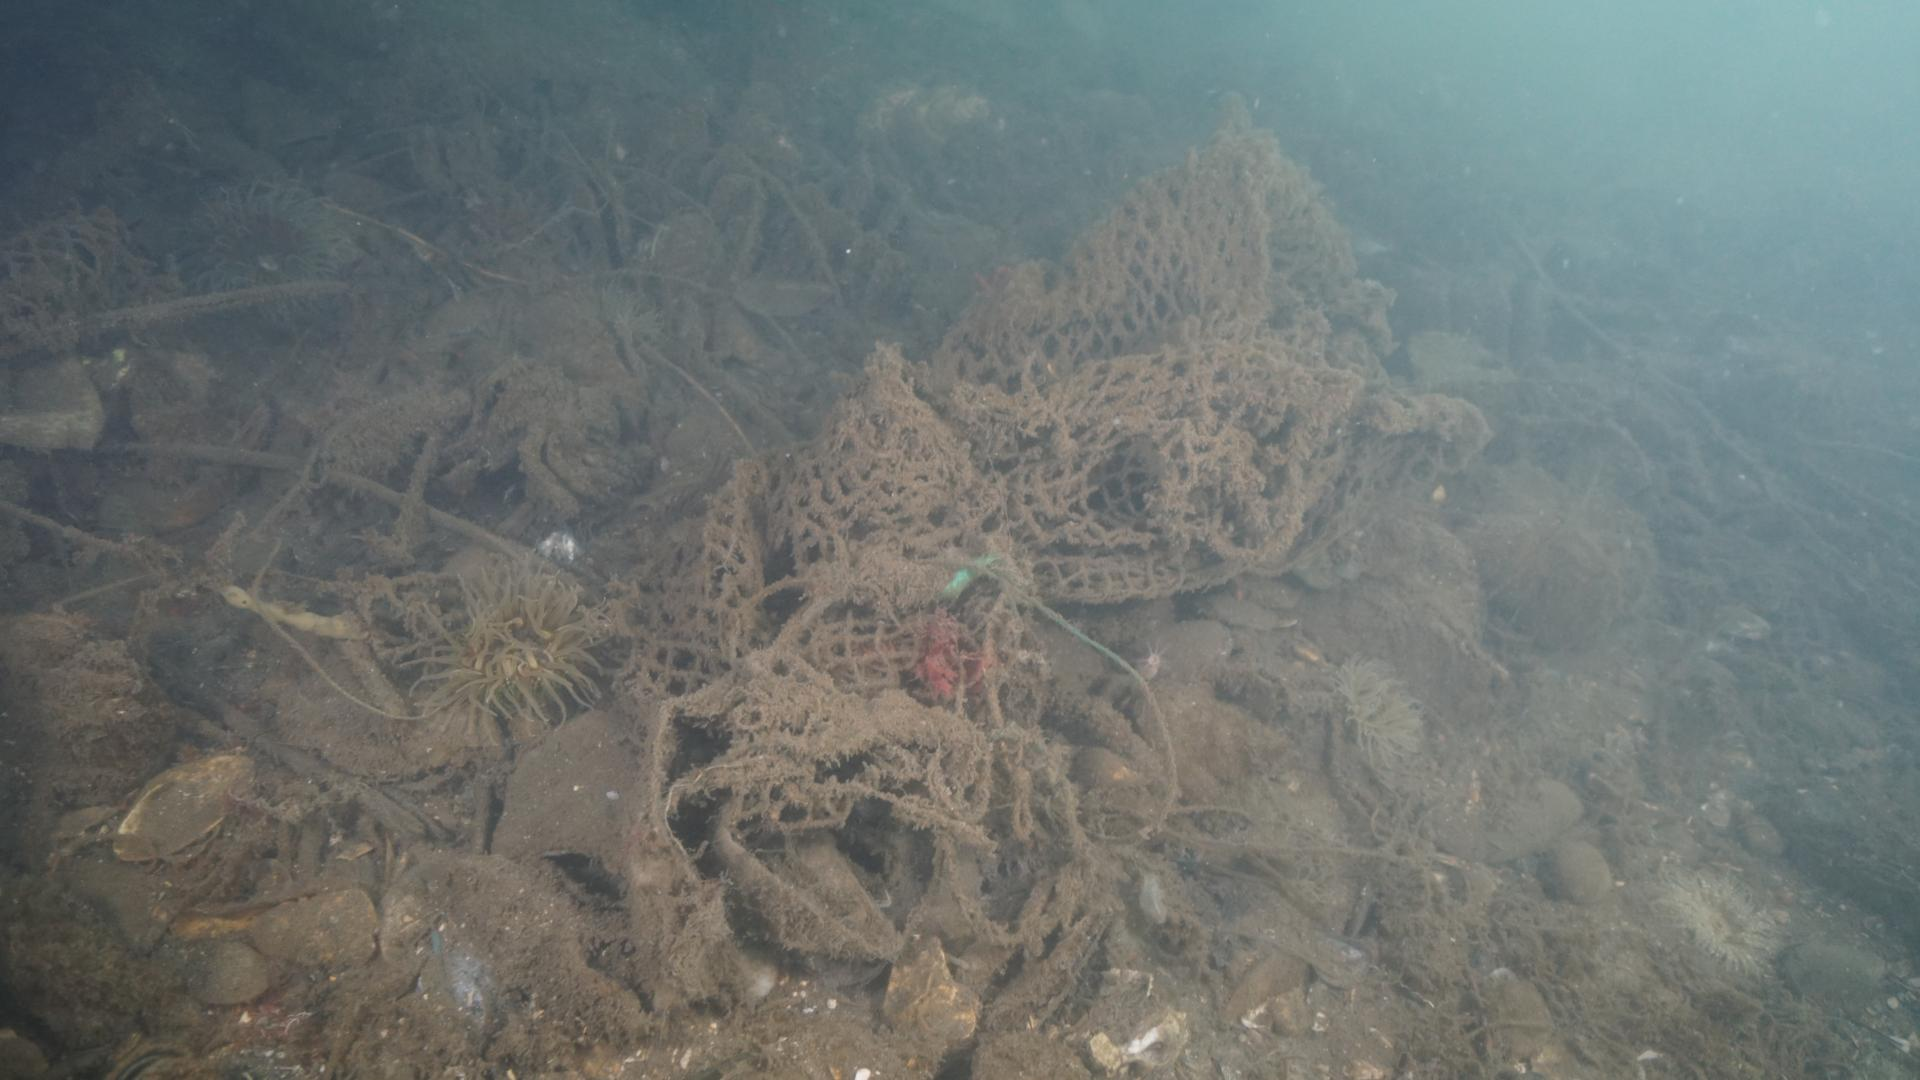fish net: (609, 78, 1393, 837)
